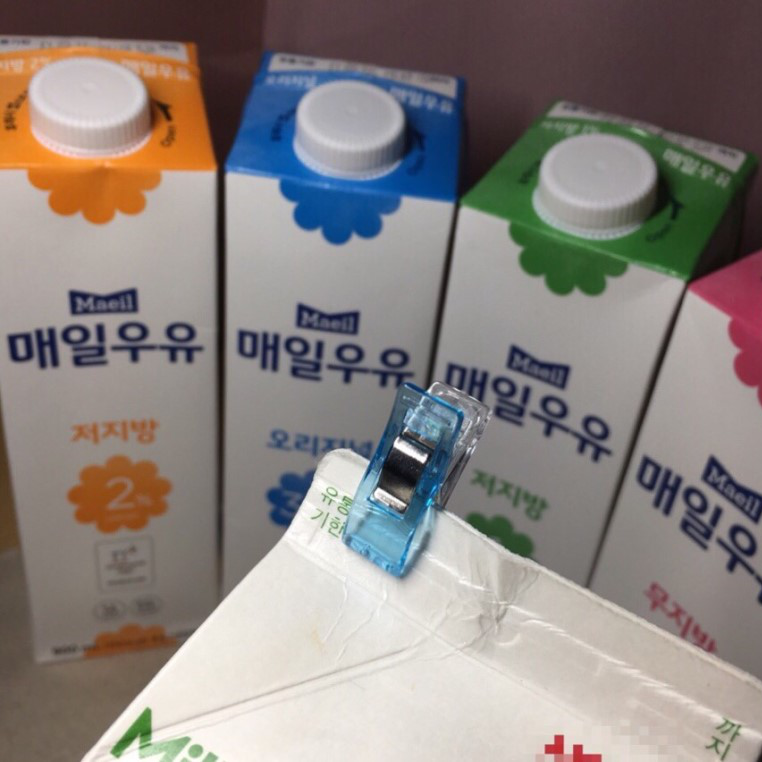milk: (80, 454, 745, 762), (455, 96, 759, 696), (1, 34, 220, 667), (224, 49, 454, 608)
